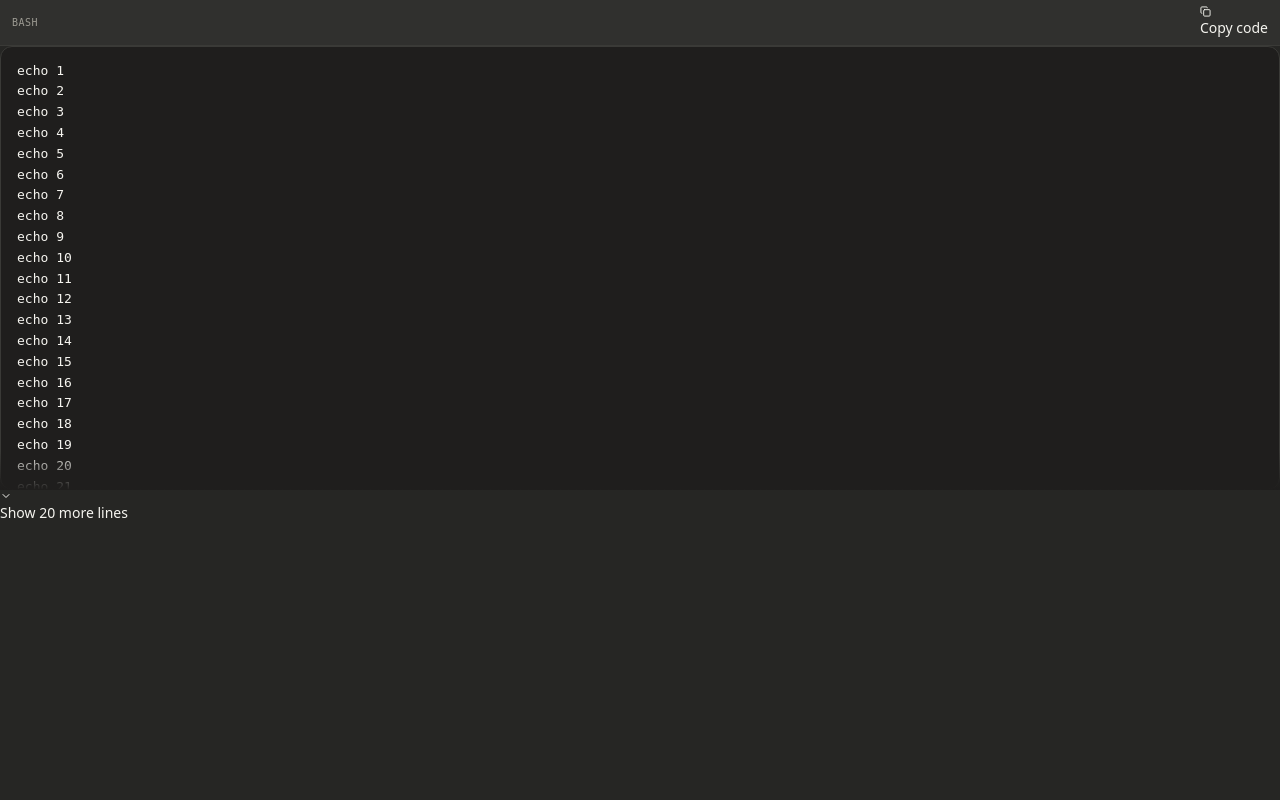
Test: CodeBlock folding › folds and unfolds highlighted children, not only plain code
Later steps or results of the test are not shown.
Click the button "Show 20 more lines" at (64, 507), box [0, 490, 128, 523]
(page scrolled)
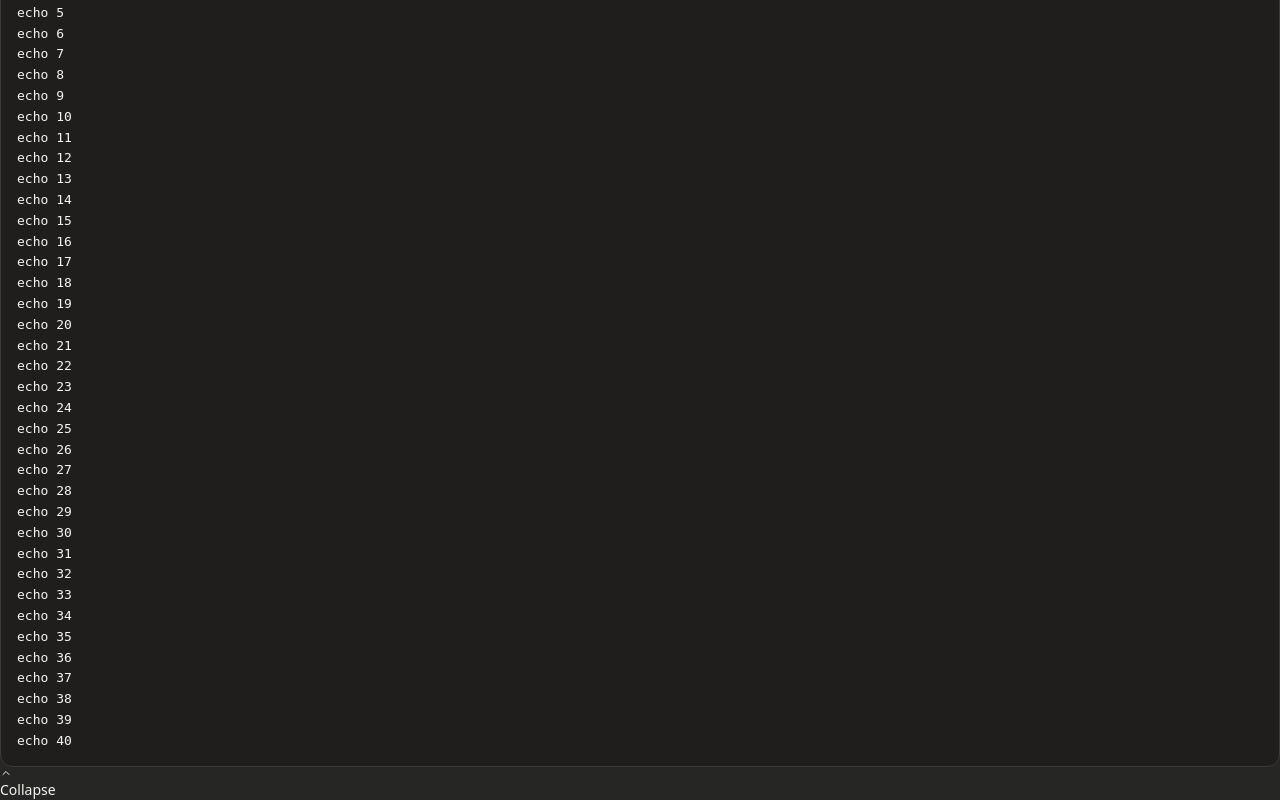
Expected: the button "Collapse" is shown, [0, 767, 56, 799]
